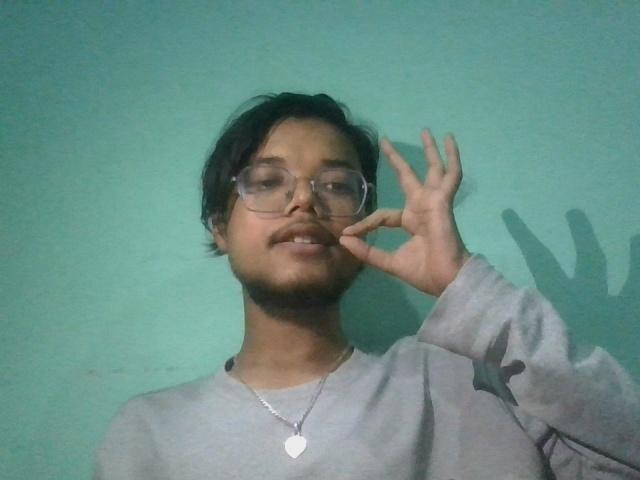Cat: (332, 119, 489, 333)
